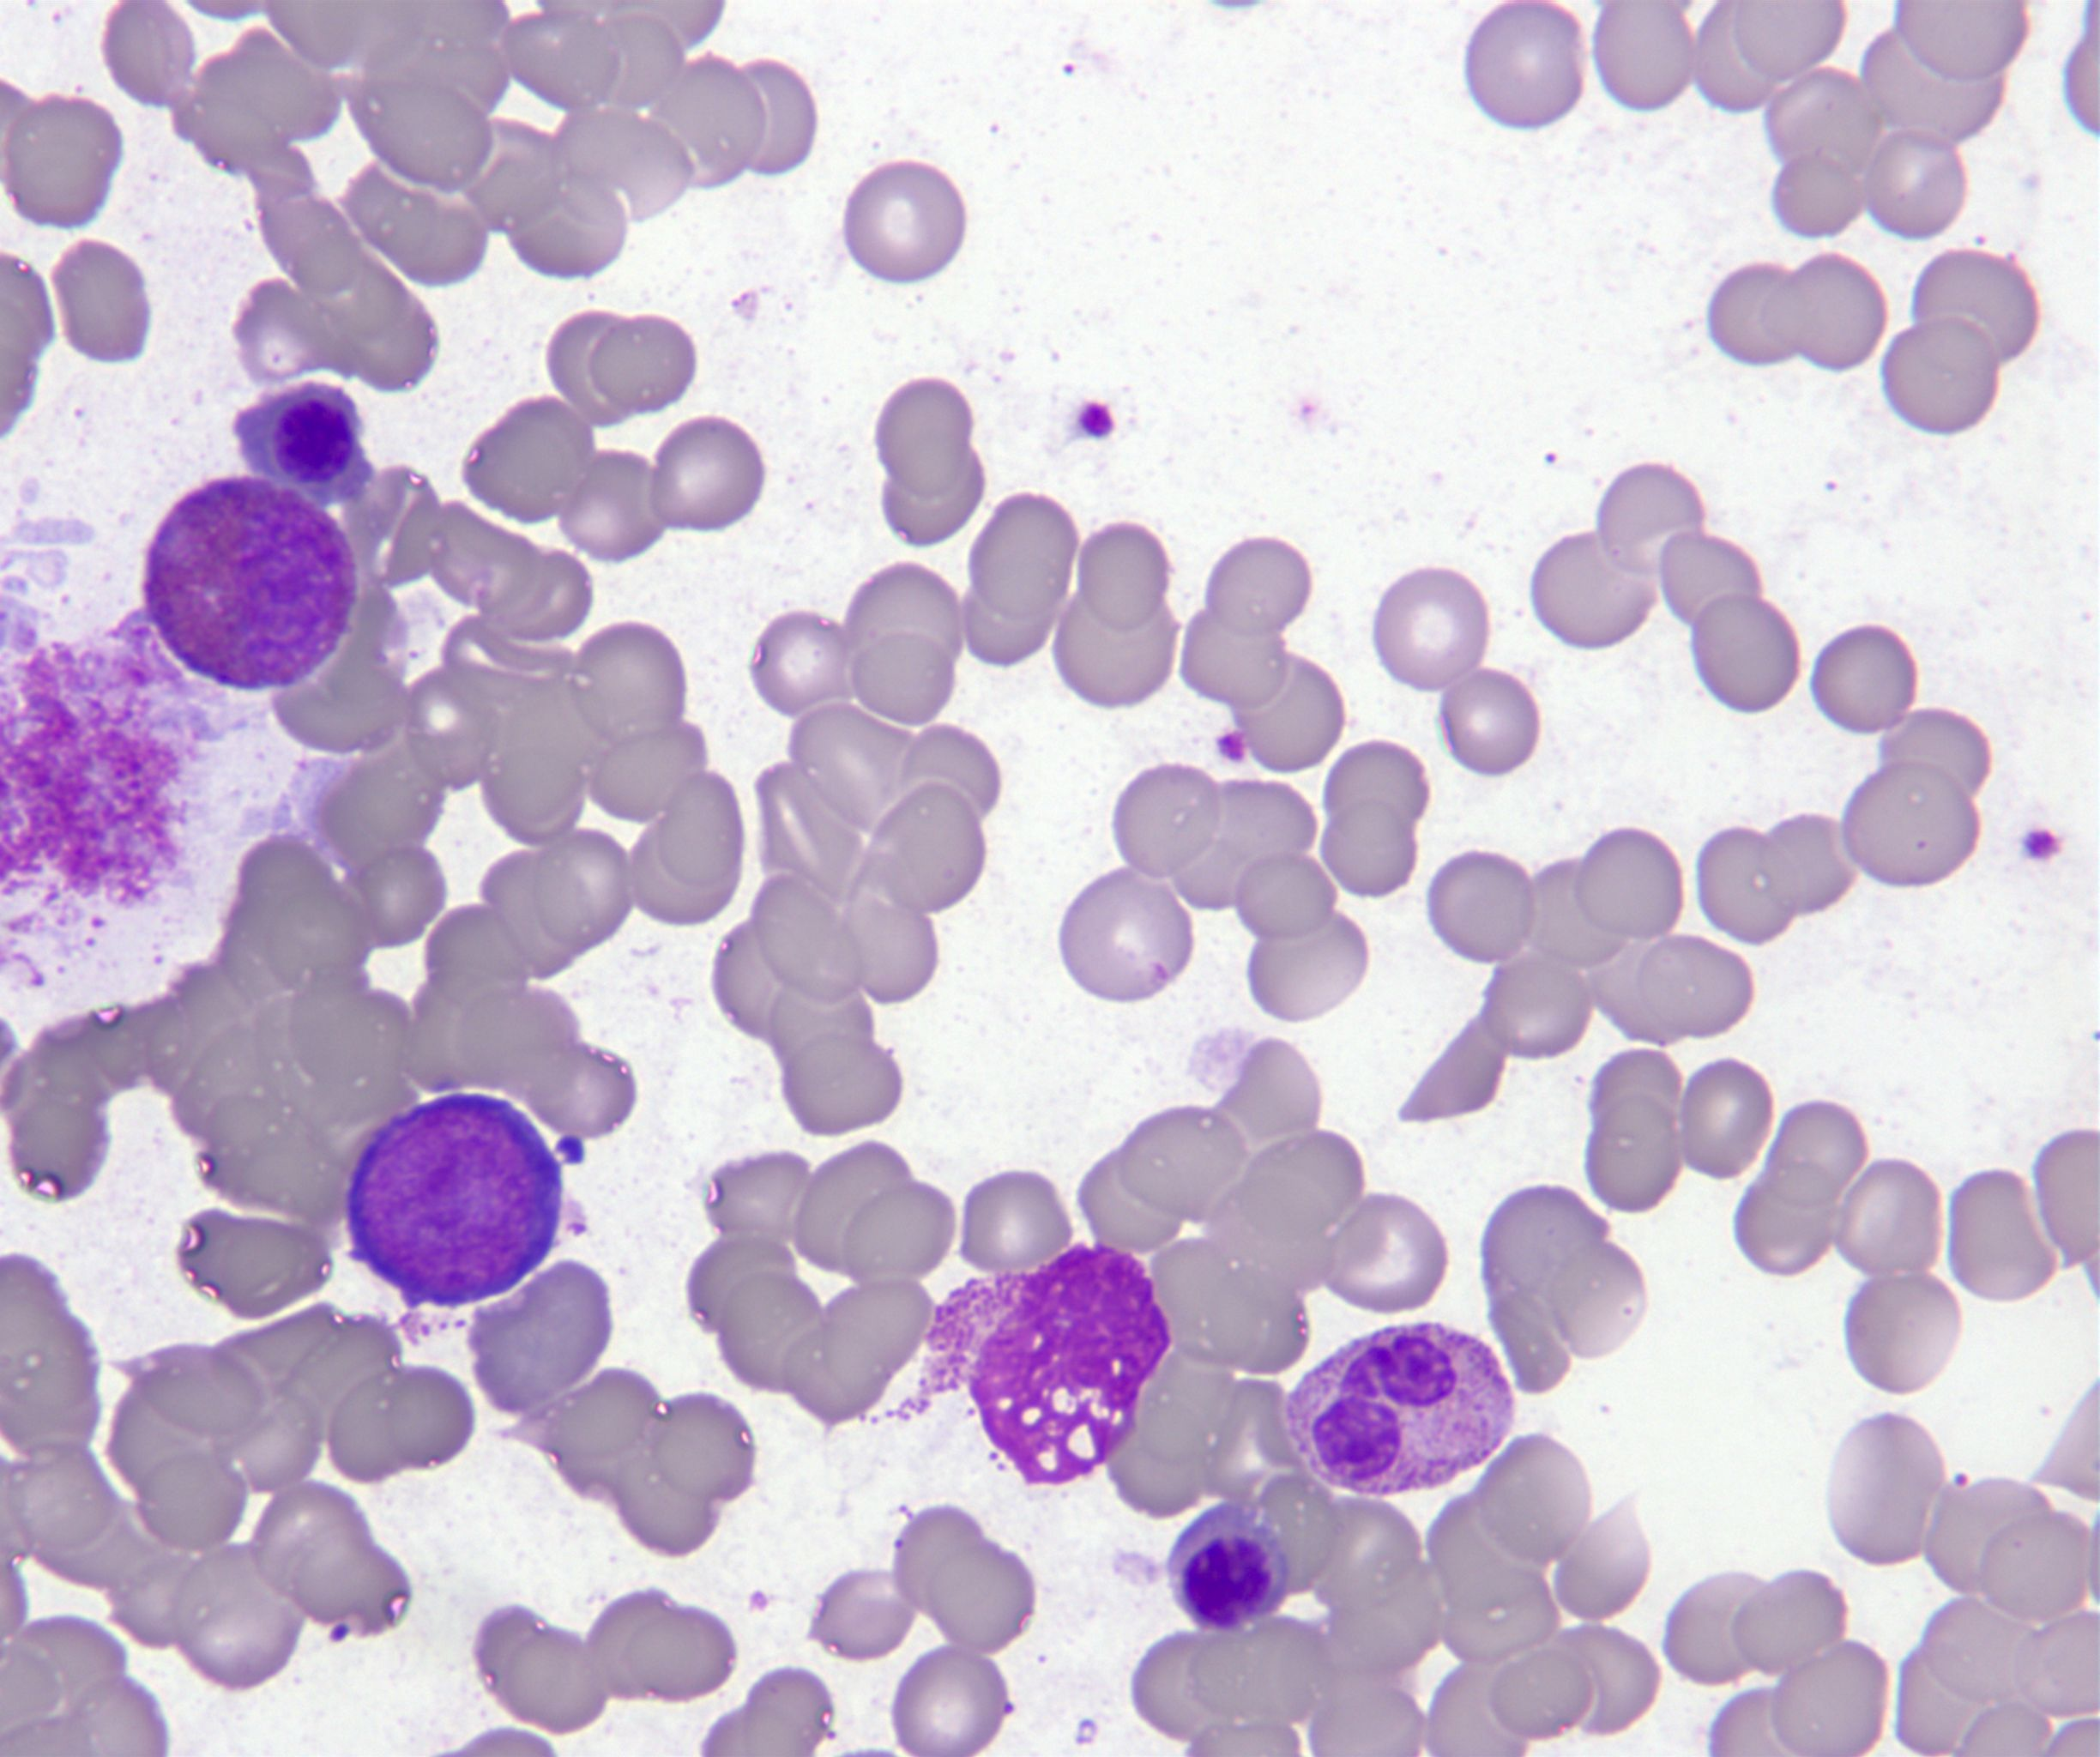22: (351, 1094, 583, 1307)
24: (234, 384, 373, 508), (1169, 1504, 1289, 1637)
5: (1282, 1321, 1514, 1495)
E2: (145, 482, 356, 691)
x: (879, 1244, 1169, 1487)
